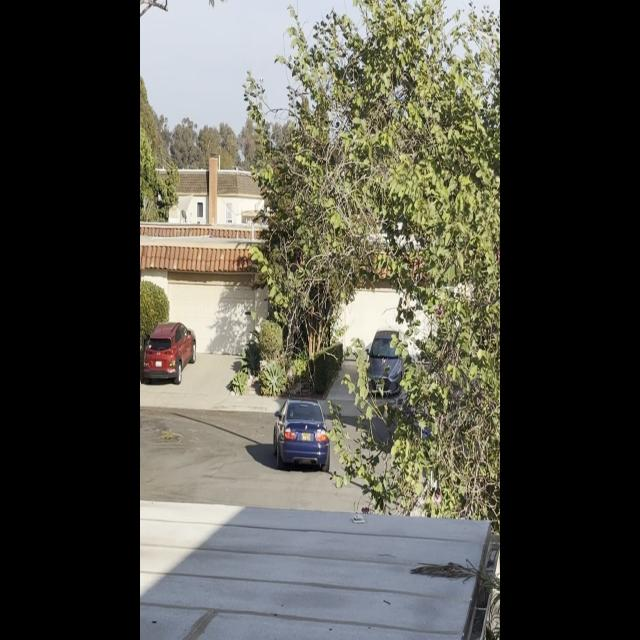Carbeetle: (269, 390, 330, 478)
Civilian: (140, 318, 199, 383), (363, 320, 409, 403)
